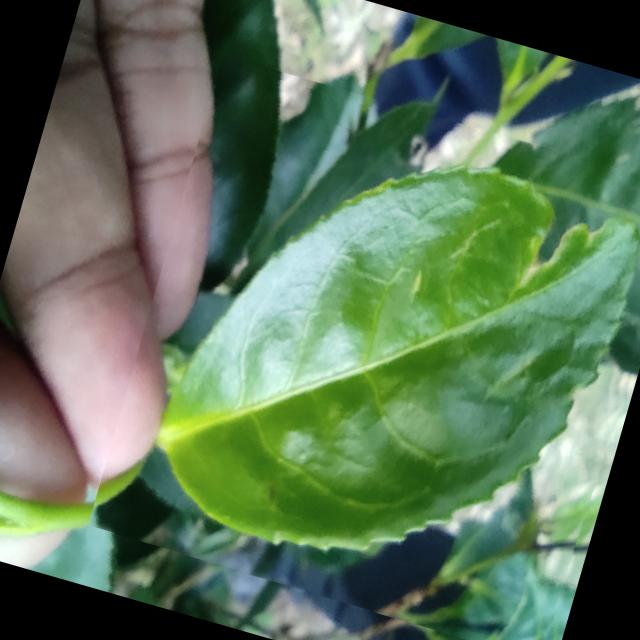Category C 4-7 days: (84, 54, 640, 640)
